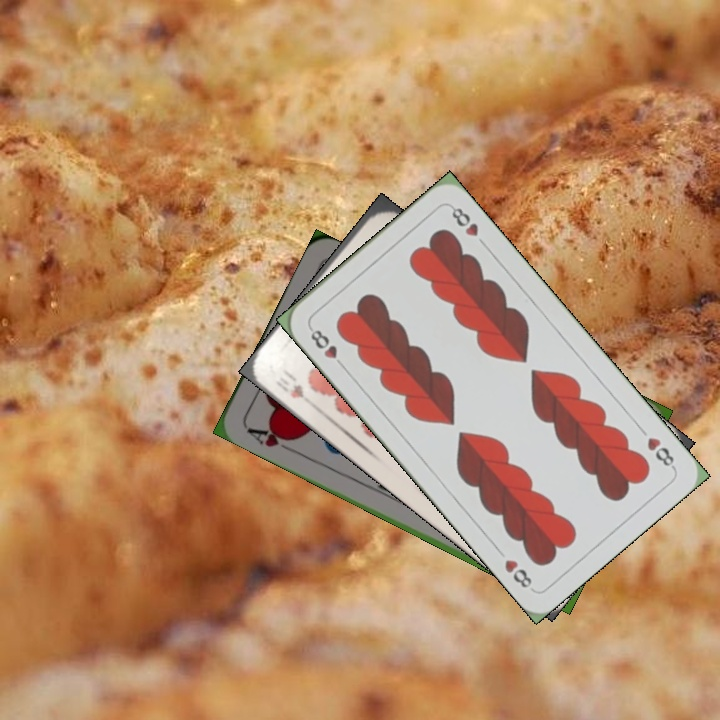H10: (271, 365, 307, 402)
H8: (305, 323, 349, 372), (643, 433, 678, 472)
HA: (242, 422, 298, 456)
